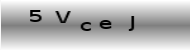5: (29, 9, 43, 23)
J: (127, 15, 135, 32)
V: (53, 9, 71, 24)
c: (79, 21, 92, 32)
e: (99, 19, 112, 30)
